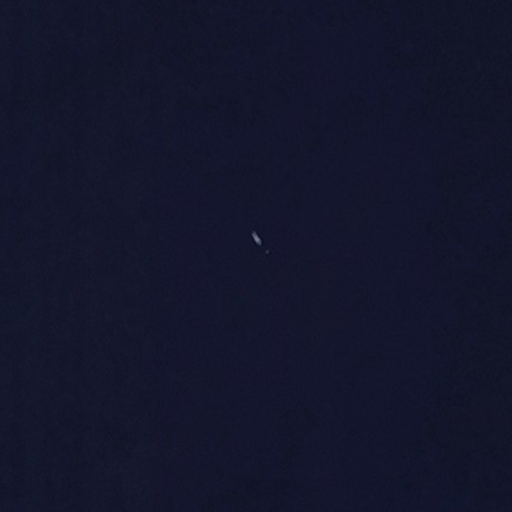ship: (248, 228, 263, 250)
